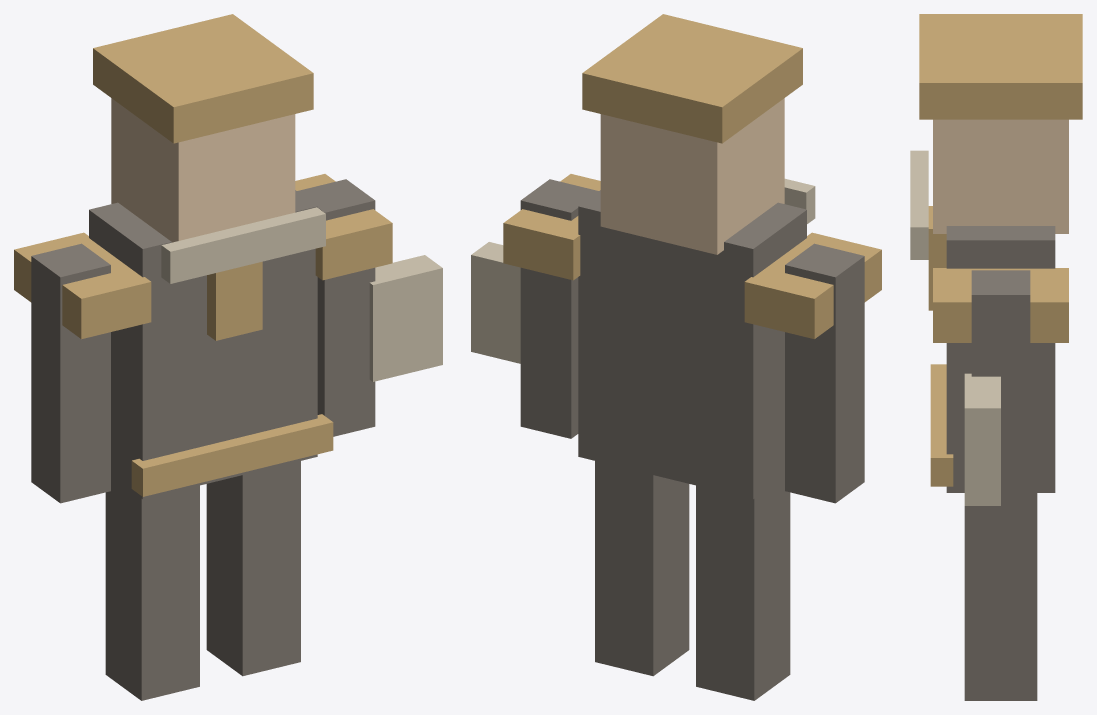
File: 09_korra_chromabell_warden_under_saltscar.glb
The picture shows the model from 3 angles, left to right: view 1: azimuth 30°, elevation 25°; view 2: azimuth 150°, elevation 25°; view 3: azimuth 270°, elevation 25°; orthographic projection.
Parts seen in each view (by area): view 1: Korra Chromabell, Warden under Saltscar; view 2: Korra Chromabell, Warden under Saltscar; view 3: Korra Chromabell, Warden under Saltscar.
Part boxes in pixels (x1,y1,x2,y2): Korra Chromabell, Warden under Saltscar: (14, 14, 442, 700); Korra Chromabell, Warden under Saltscar: (471, 14, 881, 700); Korra Chromabell, Warden under Saltscar: (910, 14, 1082, 700).
Bounding box in the file's own units: 0.9212 × 1.41 × 0.359.
